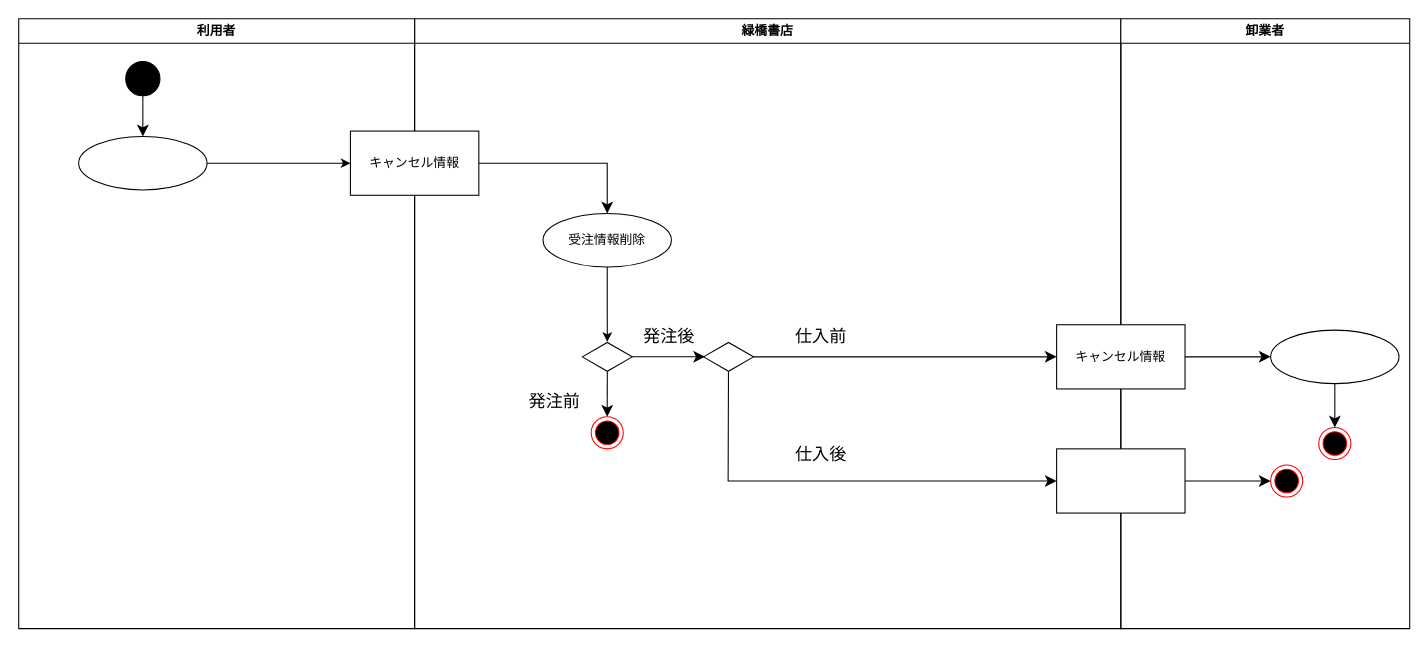
Some shapes in this 1428 by 647 pixel diagram are drawn without their labels. The shapes that lost their labels are listed below. From the top down, each one's centre as x and y in pixels, then its label:
point (142, 162): キャンセル
point (1334, 356): 受け付ける
point (1120, 480): 返品商品
